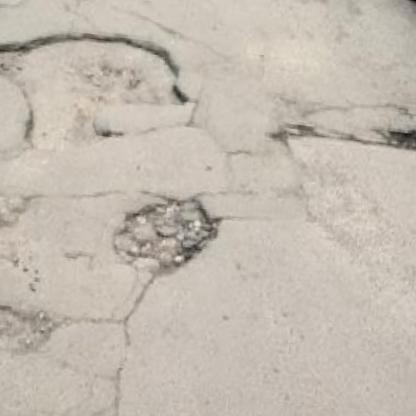pothole: (0, 12, 194, 163), (106, 184, 222, 285), (0, 296, 67, 361), (266, 119, 324, 149), (378, 128, 416, 154)
